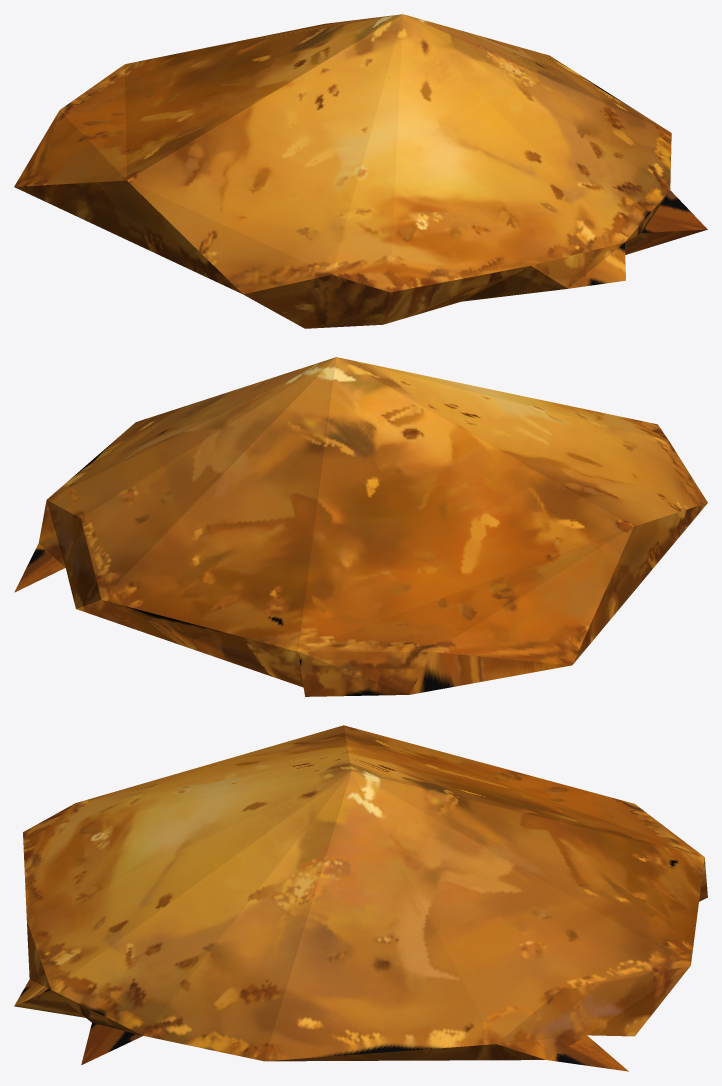
File: hay_pile_lod2.glb
3 renders of one model, top to bottom at view 1: azimuth 30°, elevation 25°; view 2: azimuth 150°, elevation 25°; view 3: azimuth 270°, elevation 25°, orthographic. The views are drawn at different scales.
Visible parts, largest first — view 1: geometry_0; view 2: geometry_0; view 3: geometry_0.
Part boxes in pixels (x1,y1,x2,y2): geometry_0: [14, 14, 707, 328]; geometry_0: [14, 357, 707, 696]; geometry_0: [14, 725, 707, 1071].
Size of the model in its own units: 1.2 by 0.4211 by 1.2.
Materials: 1 (1 with a texture image).
